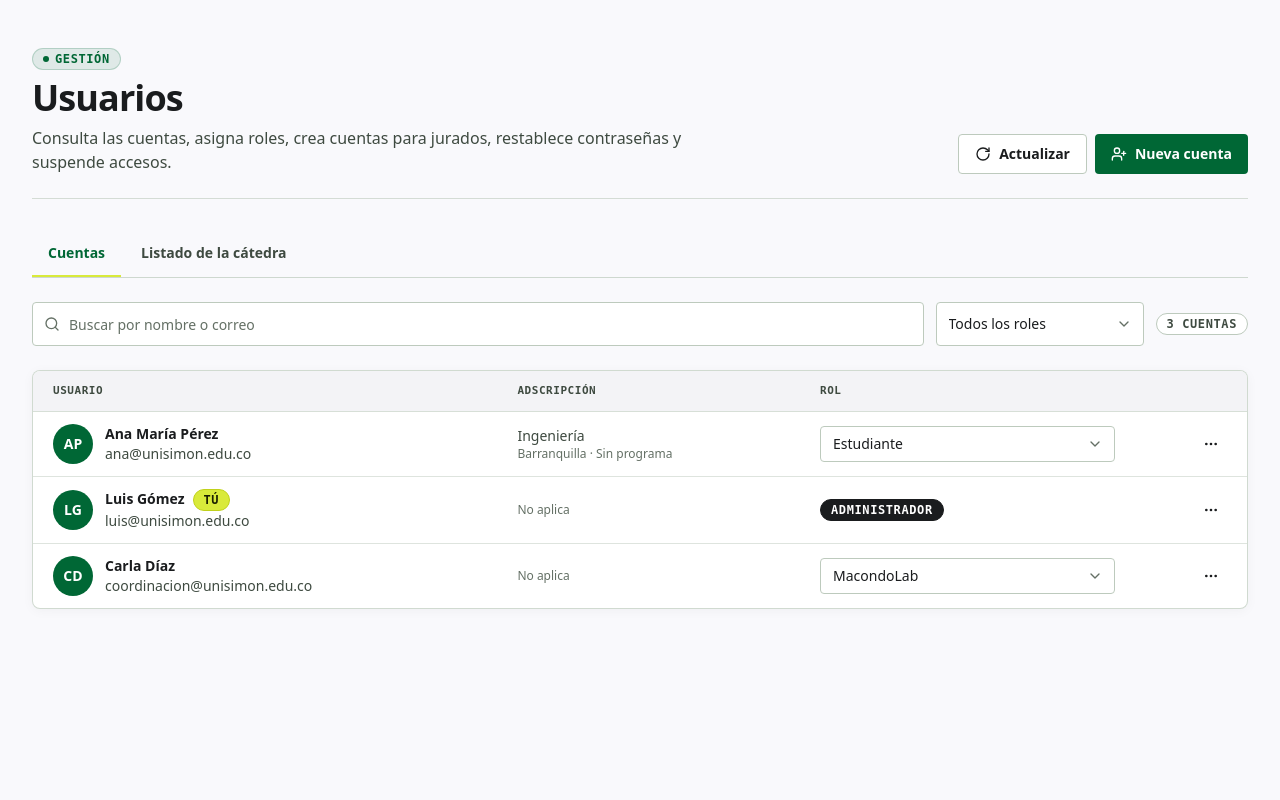
Test: Usuarios como administrador › puede eliminar otras cuentas
The image size is (1280, 800).
Click the button named "Acciones para Ana María Pérez".
click(1211, 444)  # box [1195,428,1227,460]
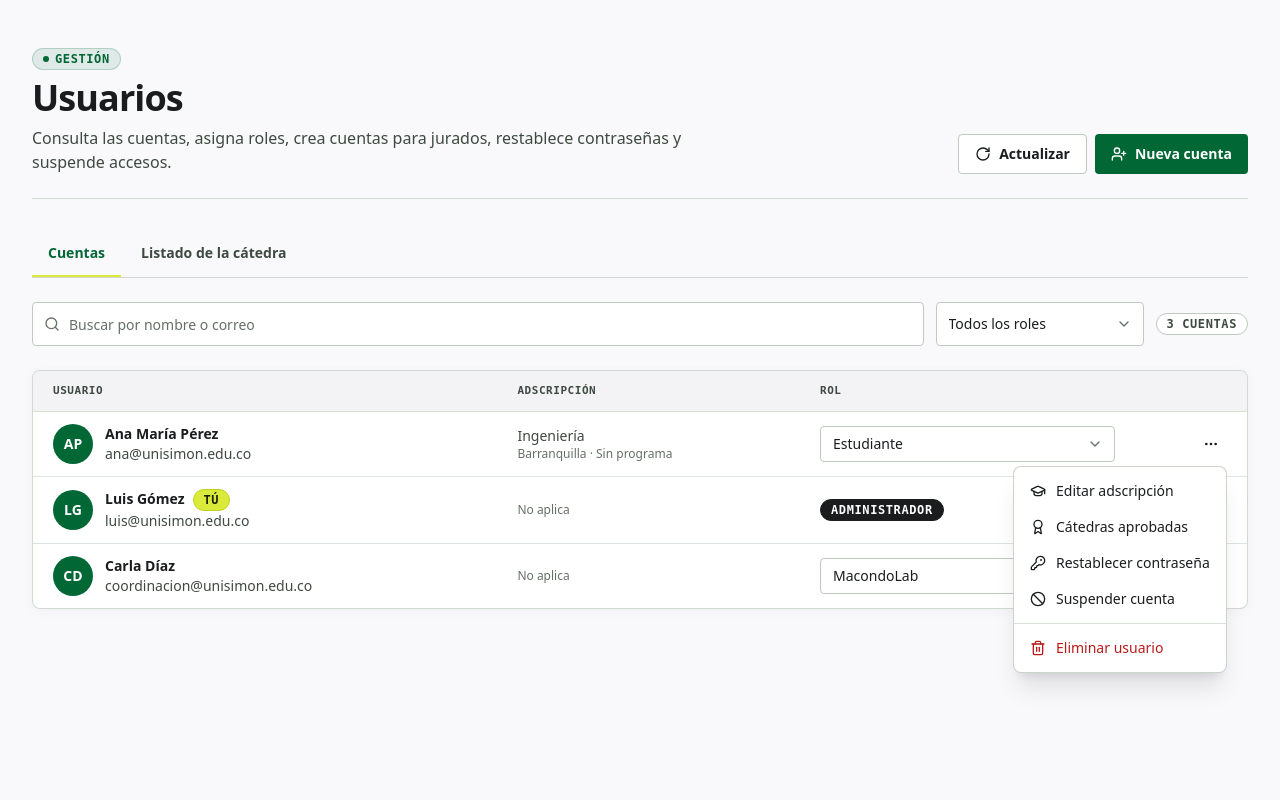
Result: the menu item "Eliminar usuario" is shown at [1030,638,1163,657]
